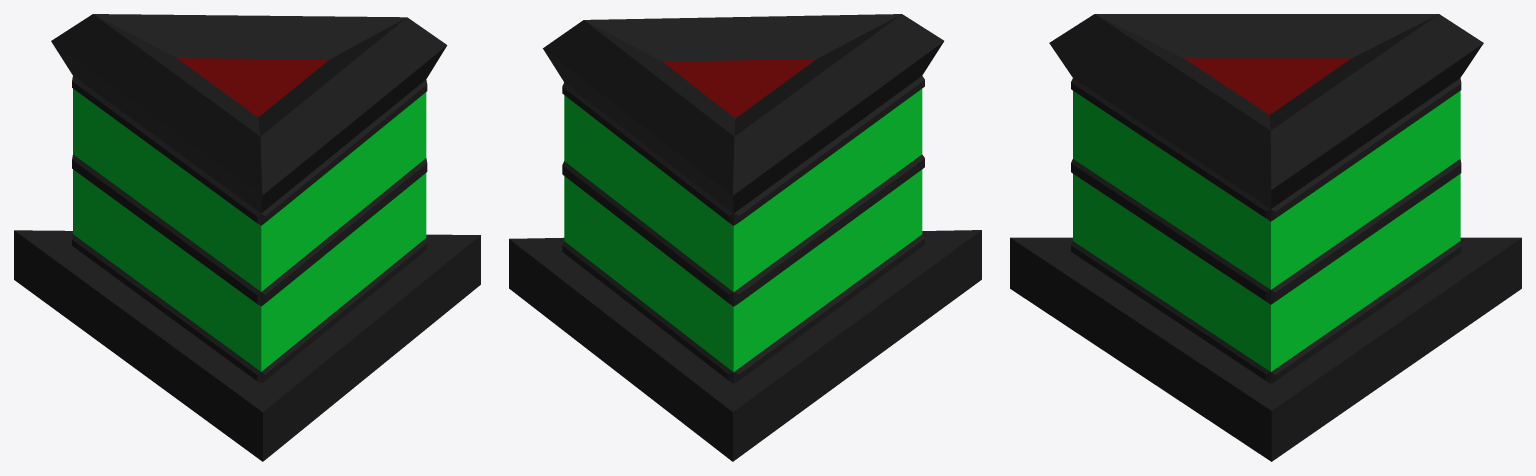
The model's file is CenterBumperExport.FBX.
3 views of the same model, side by side, from view 1: azimuth 30°, elevation 25°; view 2: azimuth 150°, elevation 25°; view 3: azimuth 270°, elevation 25° (orthographic). The views are drawn at different scales.
Visible parts, largest first — view 1: CenterBumper; view 2: CenterBumper; view 3: CenterBumper.
Part boxes in pixels (x1,y1,x2,y2): CenterBumper: (14,14,480,461); CenterBumper: (509,14,981,461); CenterBumper: (1010,14,1521,461).
Bounding box in the file's own units: 5.1 × 4.03 × 6.36.
